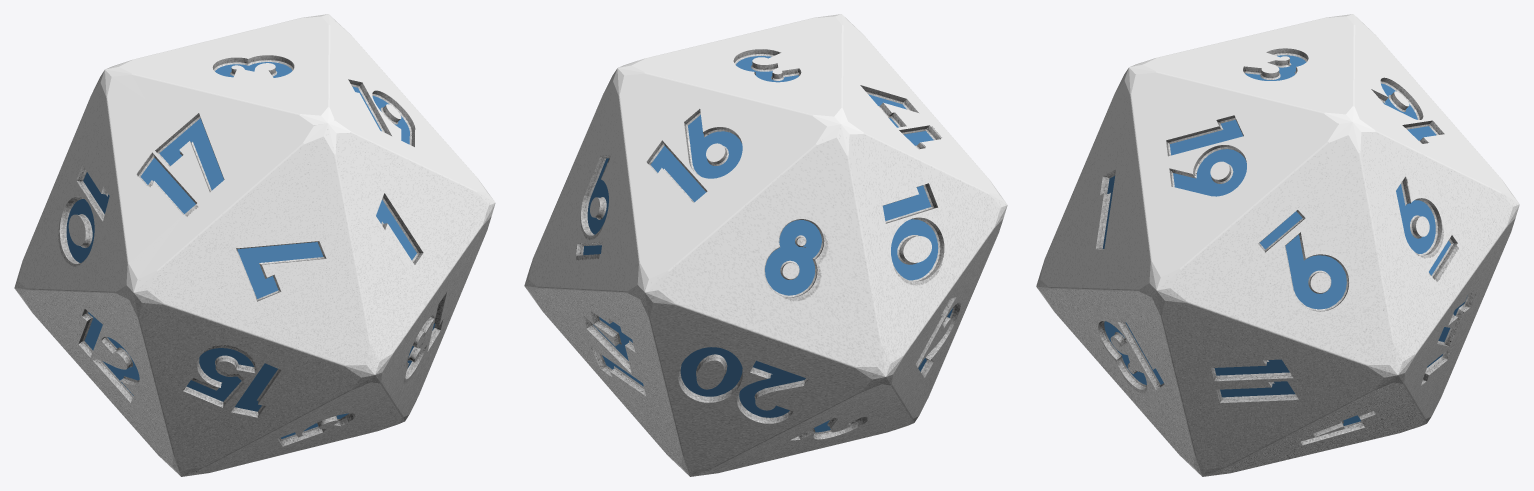
Rendered from Dice_export_test01.glb.
The picture shows the model from 3 angles, left to right: view 1: azimuth 30°, elevation 25°; view 2: azimuth 150°, elevation 25°; view 3: azimuth 270°, elevation 25°; orthographic projection.
Parts seen in each view (by area): view 1: d20_Detailed.001; view 2: d20_Detailed.001; view 3: d20_Detailed.001.
Part boxes in pixels (<box>): d20_Detailed.001: <box>14,14,495,476</box>; d20_Detailed.001: <box>524,14,1007,476</box>; d20_Detailed.001: <box>1036,14,1519,476</box>.
Bounding box in the file's own units: 2.97 × 2.78 × 3.37.
Materials: 2 (1 with a texture image).
